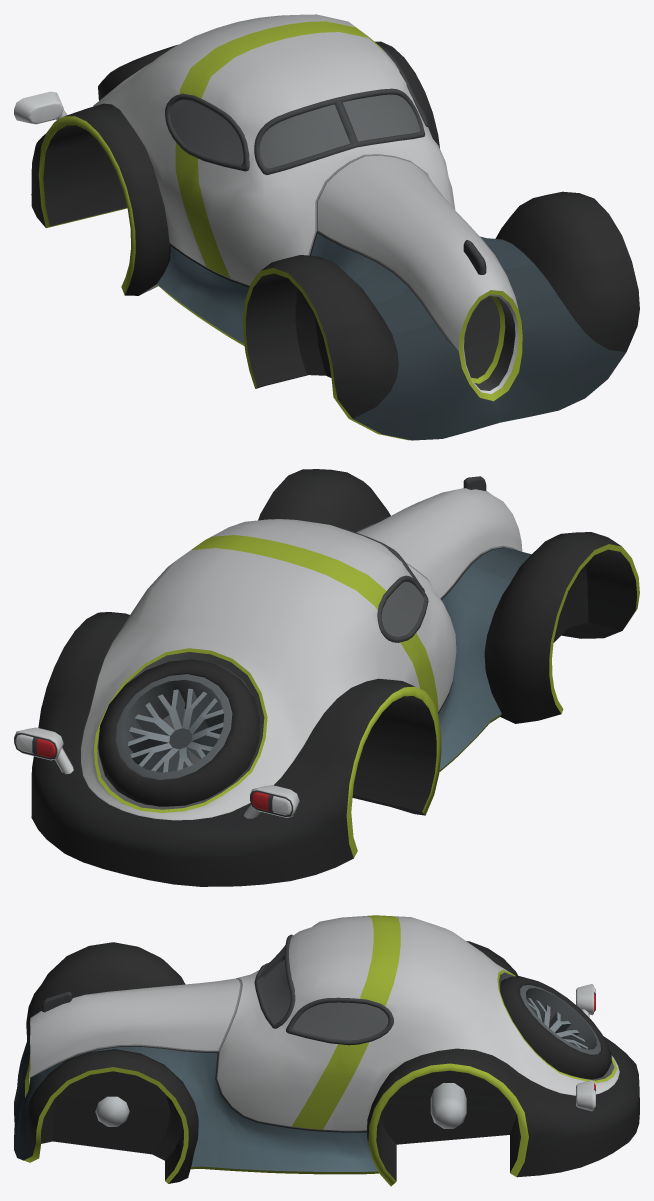
The model's file is Car_15.fbx.
The picture shows the model from 3 angles, top to bottom: view 1: azimuth 30°, elevation 25°; view 2: azimuth 150°, elevation 25°; view 3: azimuth 270°, elevation 25°; orthographic projection. The views are drawn at different scales.
Parts seen in each view (by area): view 1: Car_15; view 2: Car_15; view 3: Car_15.
Part boxes in pixels (x1,y1,x2,y2): Car_15: [14, 14, 639, 440]; Car_15: [14, 469, 639, 886]; Car_15: [14, 915, 639, 1186].
Bounding box in the file's own units: 214 × 451 × 155.
